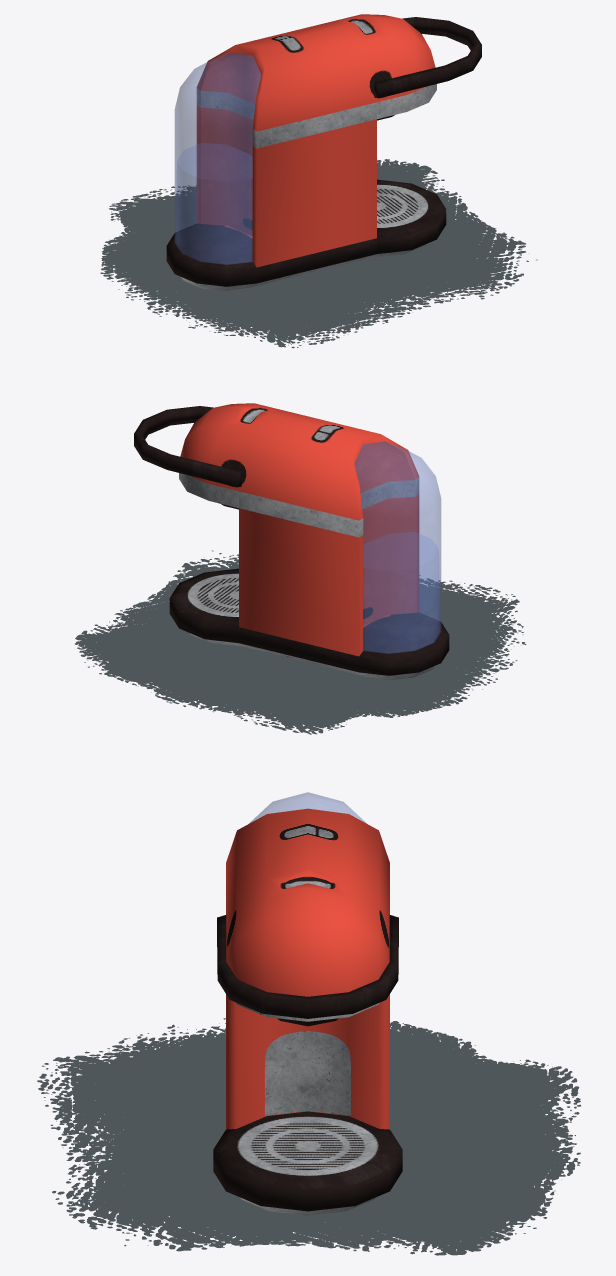
File: machine4.glb
3 renders of one model, top to bottom at view 1: azimuth 30°, elevation 25°; view 2: azimuth 150°, elevation 25°; view 3: azimuth 270°, elevation 25°, orthographic. The views are drawn at different scales.
Visible parts, largest first — view 1: coffe_mach_model, ground; view 2: coffe_mach_model, ground; view 3: ground, coffe_mach_model.
Part boxes in pixels (left/top/right/bottom): coffe_mach_model: left=166, top=14, right=481, bottom=291; ground: left=100, top=159, right=537, bottom=348; coffe_mach_model: left=134, top=403, right=449, bottom=680; ground: left=75, top=550, right=526, bottom=734; ground: left=37, top=1018, right=580, bottom=1255; coffe_mach_model: left=213, top=792, right=402, bottom=1215.
Bounding box in the file's own units: 6.21 × 3.44 × 6.21.
Materials: 4 (3 with a texture image).
